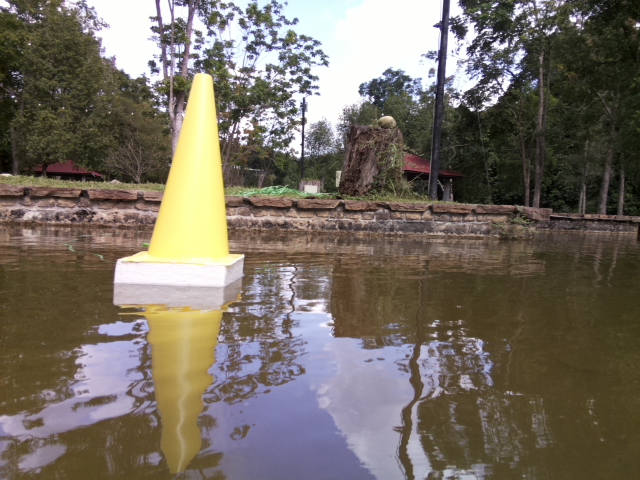checkpoint: (112, 73, 246, 289)
